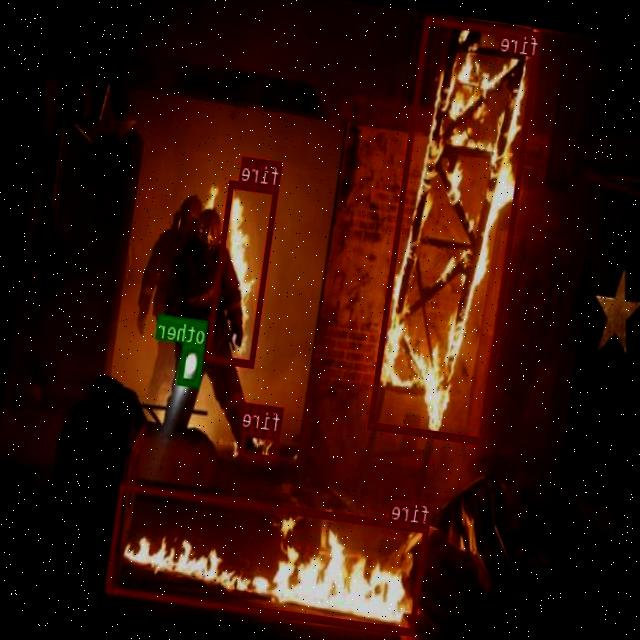fire: (370, 16, 542, 444), (106, 482, 431, 636), (205, 180, 280, 368), (239, 427, 281, 463)
